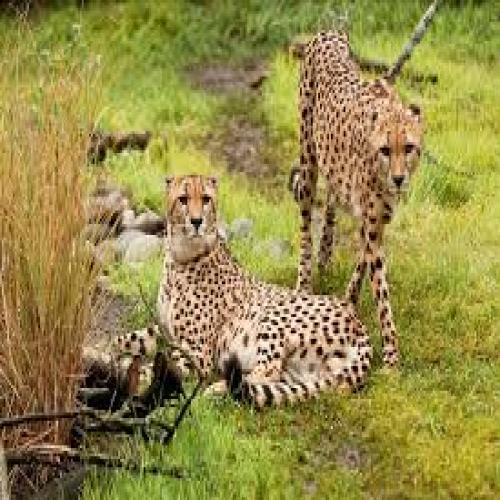cheetah-endangered: (144, 176, 370, 400), (291, 40, 419, 364)
